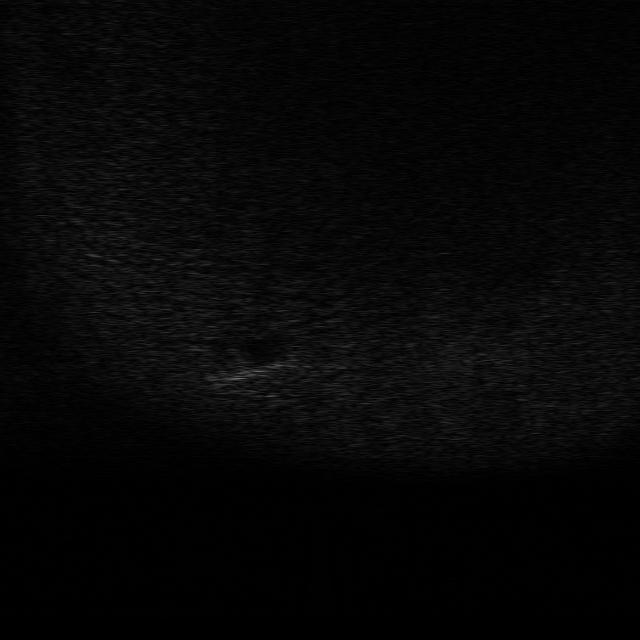plane: (205, 348, 299, 394)
